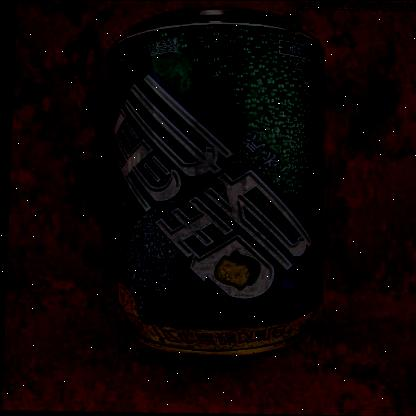Can: (110, 7, 322, 356)
